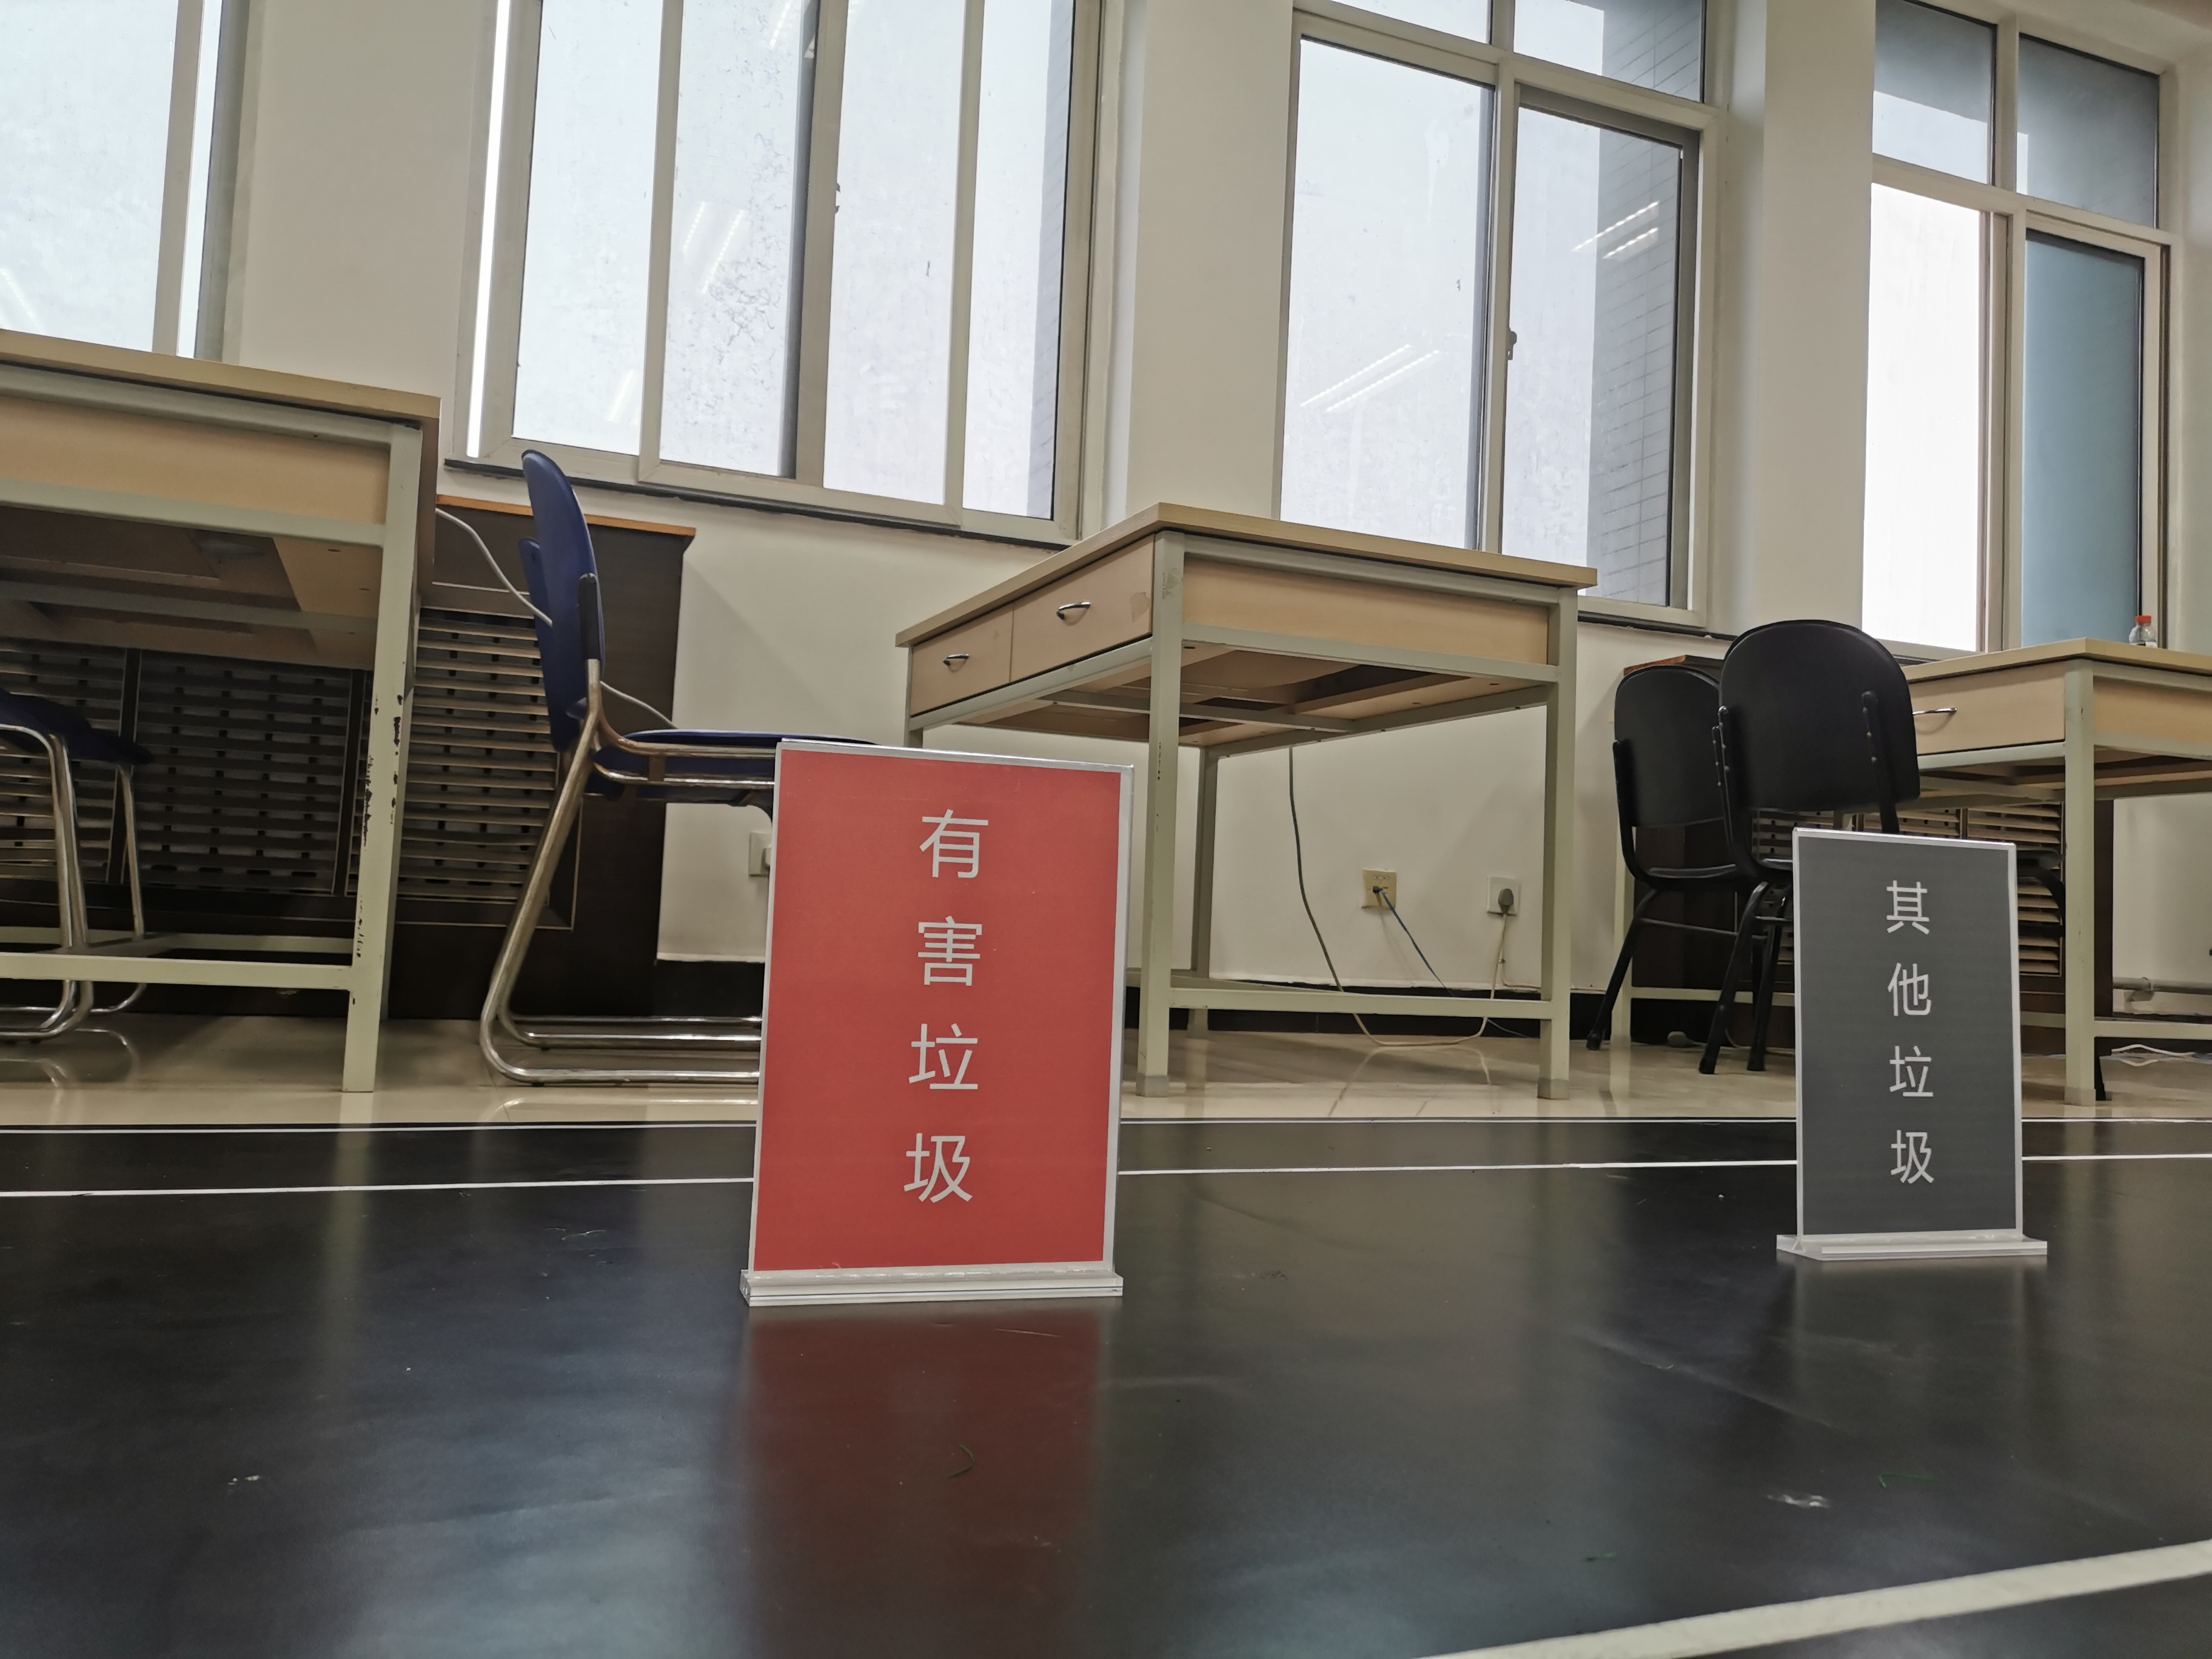black: (1813, 852, 2006, 1223)
red: (792, 775, 1101, 1262)
